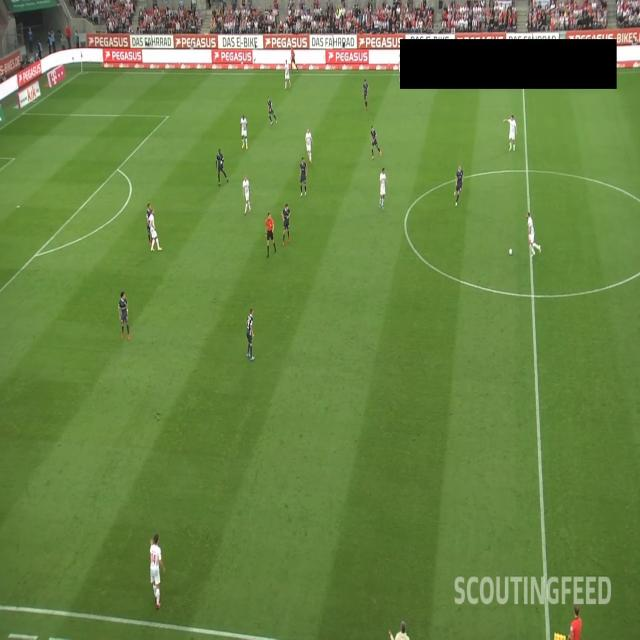ball: (508, 248, 514, 256)
